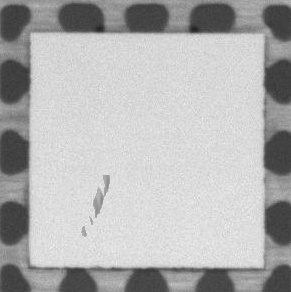DIE_INK: (81, 175, 111, 235)
